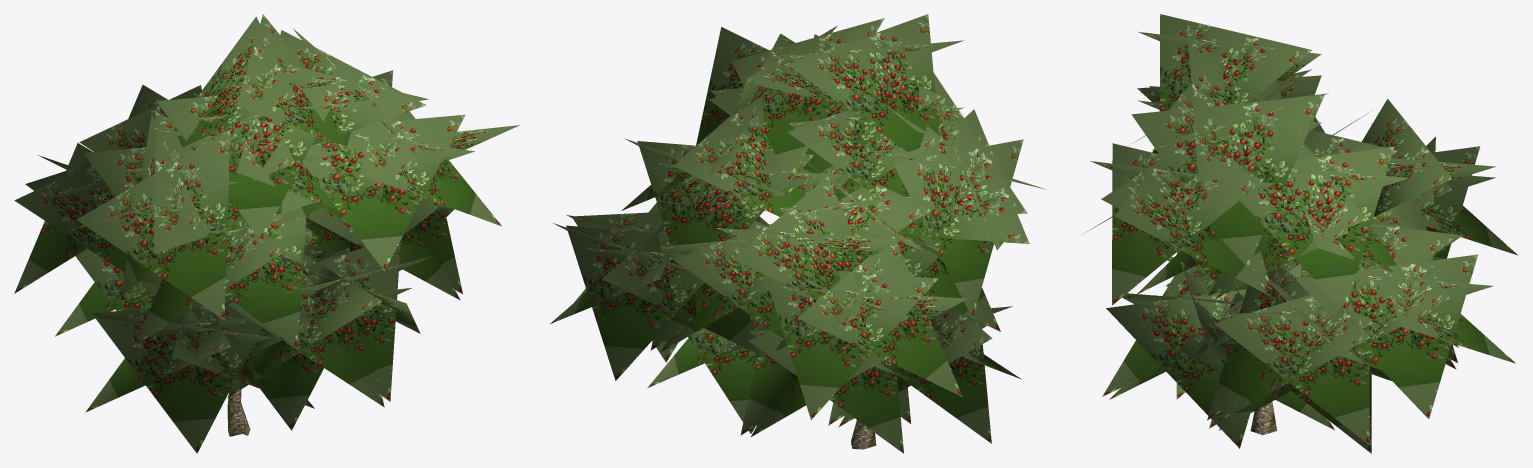
Rendered from apple-fruit-2.glb.
The picture shows the model from 3 angles, left to right: view 1: azimuth 30°, elevation 25°; view 2: azimuth 150°, elevation 25°; view 3: azimuth 270°, elevation 25°; orthographic projection. The views are drawn at different scales.
Parts seen in each view (by area): view 1: apple-fruit-2; view 2: apple-fruit-2; view 3: apple-fruit-2.
Boxes of the visible parts, left/top/right/bottom form: apple-fruit-2: left=14, top=14, right=520, bottom=453; apple-fruit-2: left=550, top=14, right=1046, bottom=453; apple-fruit-2: left=1084, top=14, right=1518, bottom=453.
Bounding box in the file's own units: 7.33 × 6.56 × 6.48.
2 materials, 2 textured.
